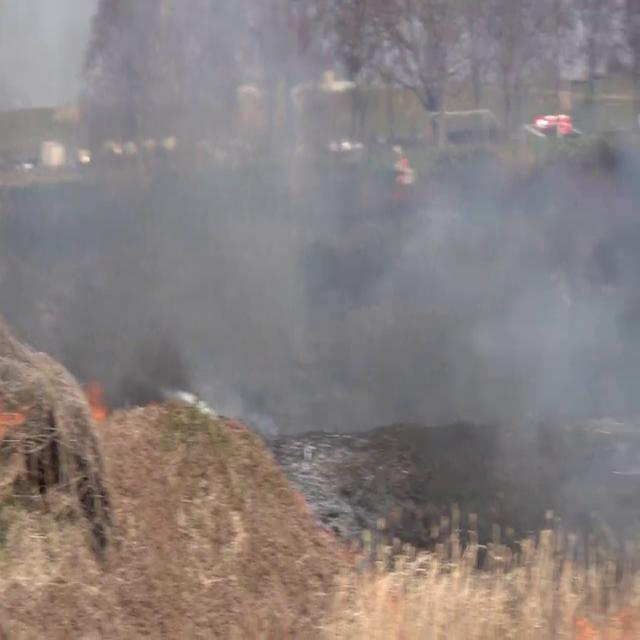Smoke: (3, 0, 639, 520)
